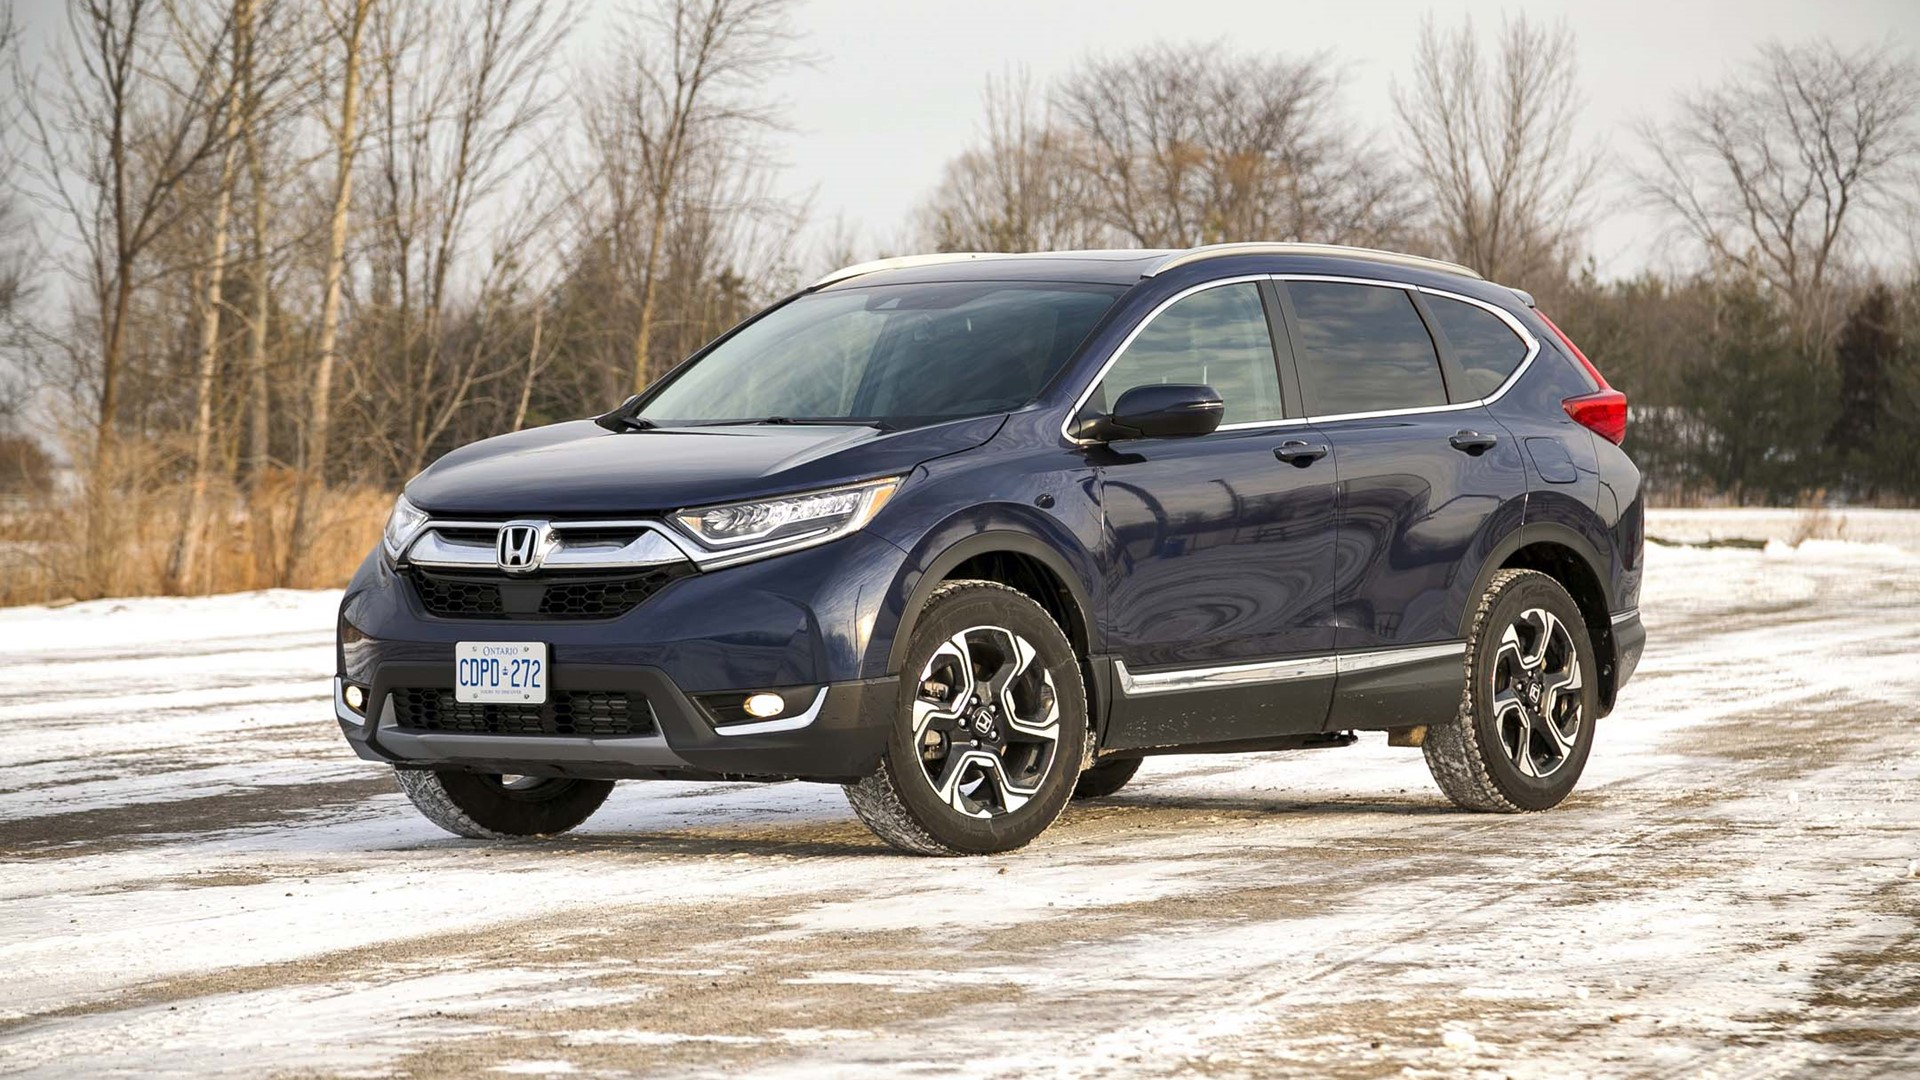crv: (310, 214, 1685, 889)
